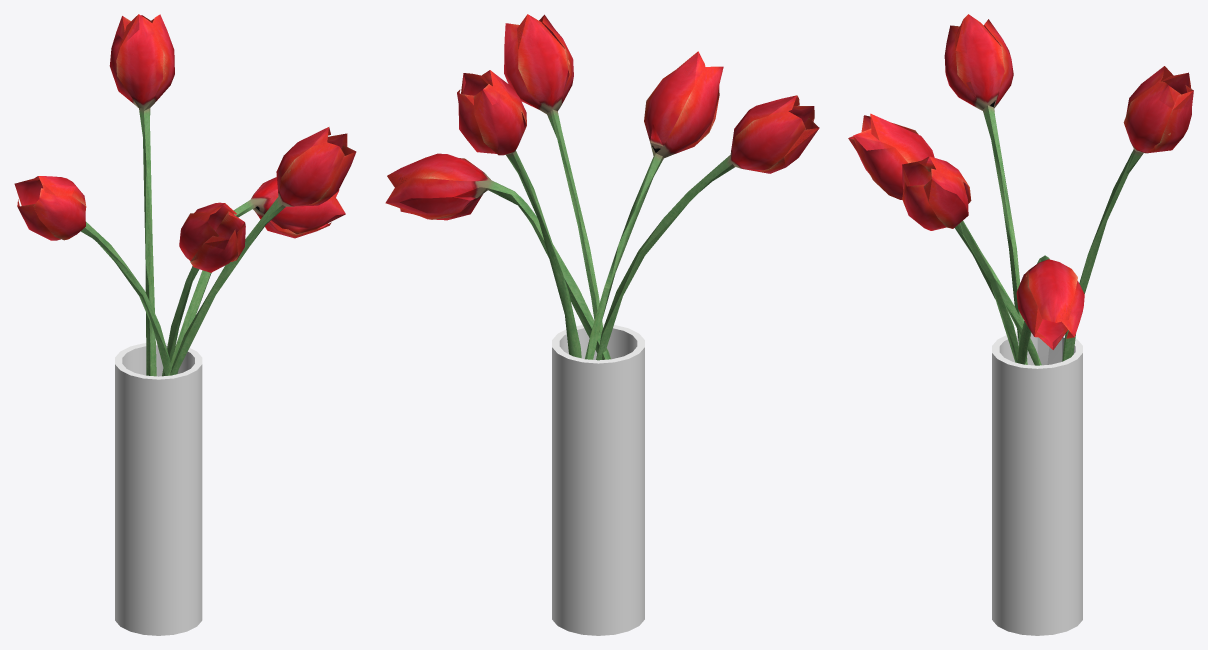
The model's file is Plant 2.FBX.
3 renders of one model, left to right at view 1: azimuth 30°, elevation 25°; view 2: azimuth 150°, elevation 25°; view 3: azimuth 270°, elevation 25°, orthographic. The views are drawn at different scales.
Parts seen in each view (by area): view 1: plant 2; view 2: plant 2; view 3: plant 2.
Part boxes in pixels (left/top/right/bottom): plant 2: left=14, top=14, right=356, bottom=635; plant 2: left=385, top=14, right=819, bottom=635; plant 2: left=848, top=14, right=1193, bottom=635.
Bounding box in the file's own units: 52.88 × 41.67 × 75.98.
Materials: 1 (1 with a texture image).
